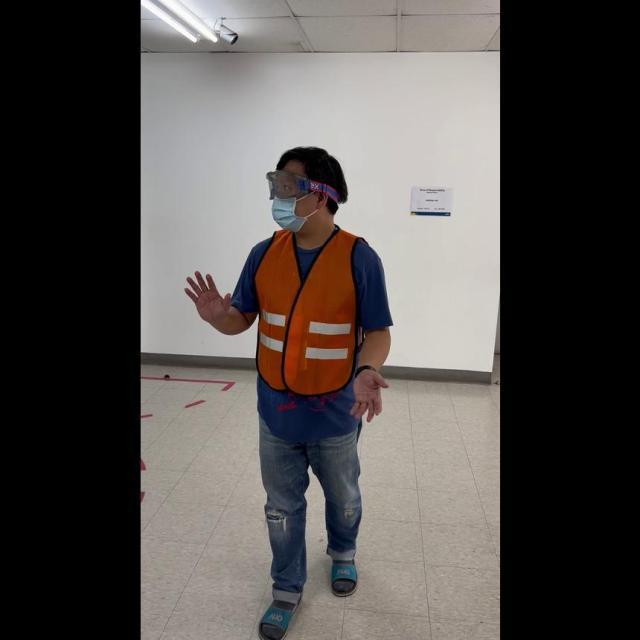bare_hand: (182, 266, 231, 322), (347, 363, 388, 423)
